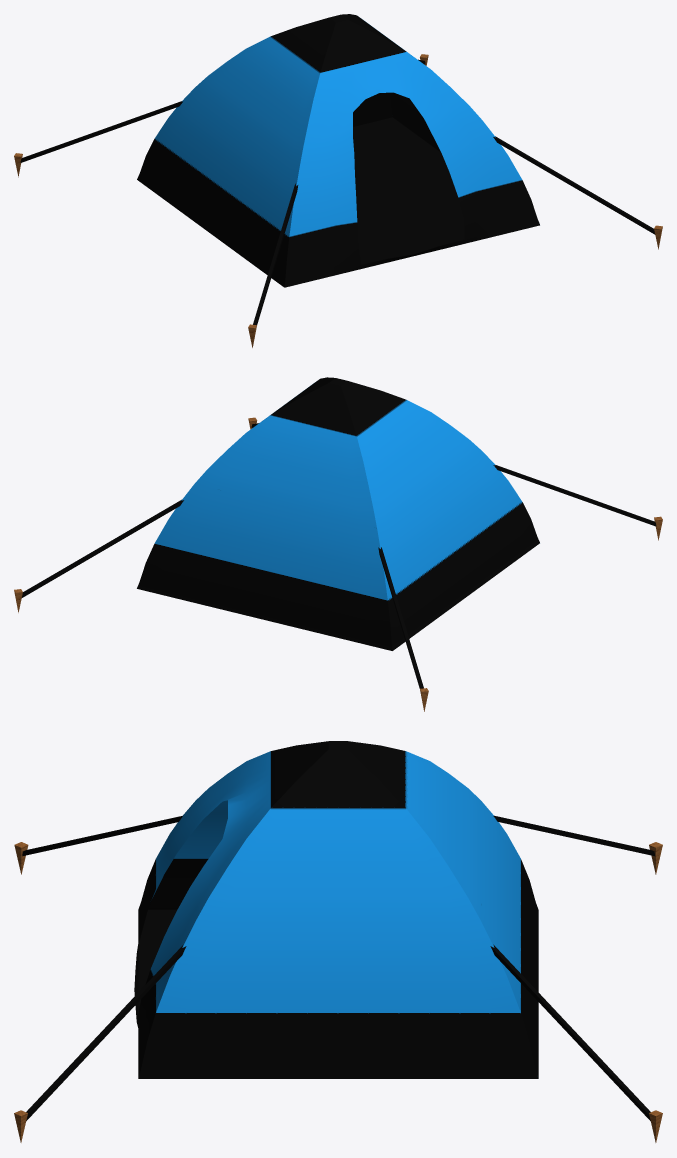
The model's file is DomeTent.fbx.
The picture shows the model from 3 angles, top to bottom: view 1: azimuth 30°, elevation 25°; view 2: azimuth 150°, elevation 25°; view 3: azimuth 270°, elevation 25°; orthographic projection. The views are drawn at different scales.
Visible parts, largest first — view 1: DomeTent; view 2: DomeTent; view 3: DomeTent.
Part boxes in pixels (x1,y1,x2,y2): DomeTent: [14, 14, 662, 347]; DomeTent: [14, 377, 662, 711]; DomeTent: [14, 741, 662, 1142].
Size of the model in its own units: 1.64 by 0.7356 by 1.64.
